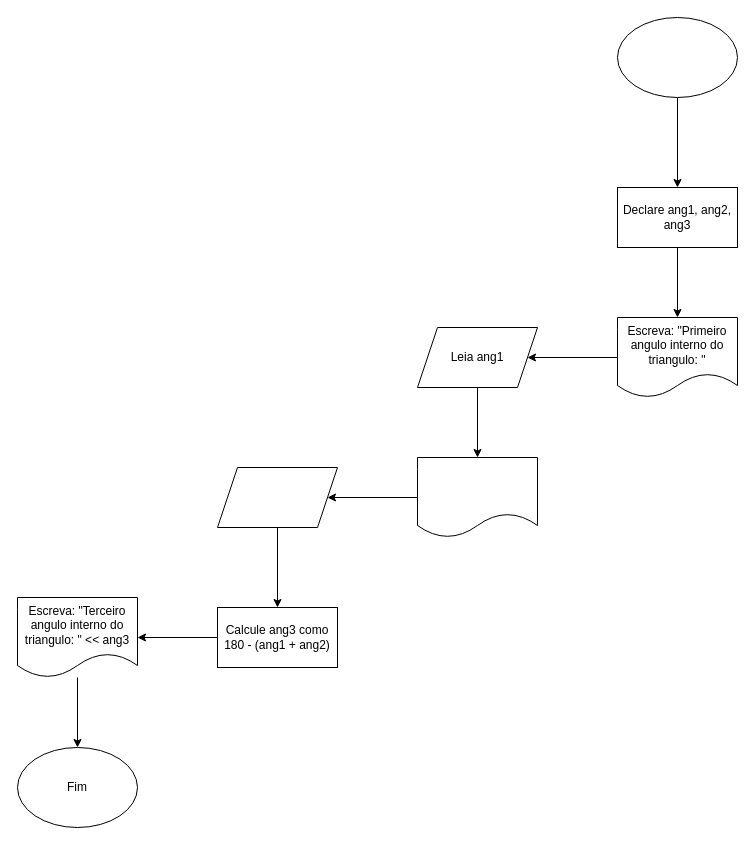
The diagram is 755 pixels wide and 845 high, and some of its shapes have lost their labels. The centre of each missing label's shape, as x and y in pixels:
Escreva: "Segundo angulo interno do traingulo:": [477,497]
Início: [677,57]
Leia ang2: [277,497]
